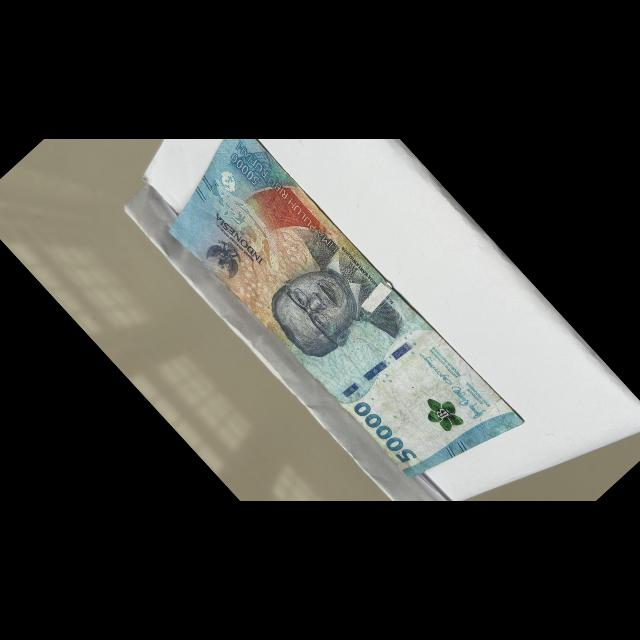Palsu-50k: (163, 139, 529, 512)
Tinta-Palsu-50k: (416, 387, 467, 440)
